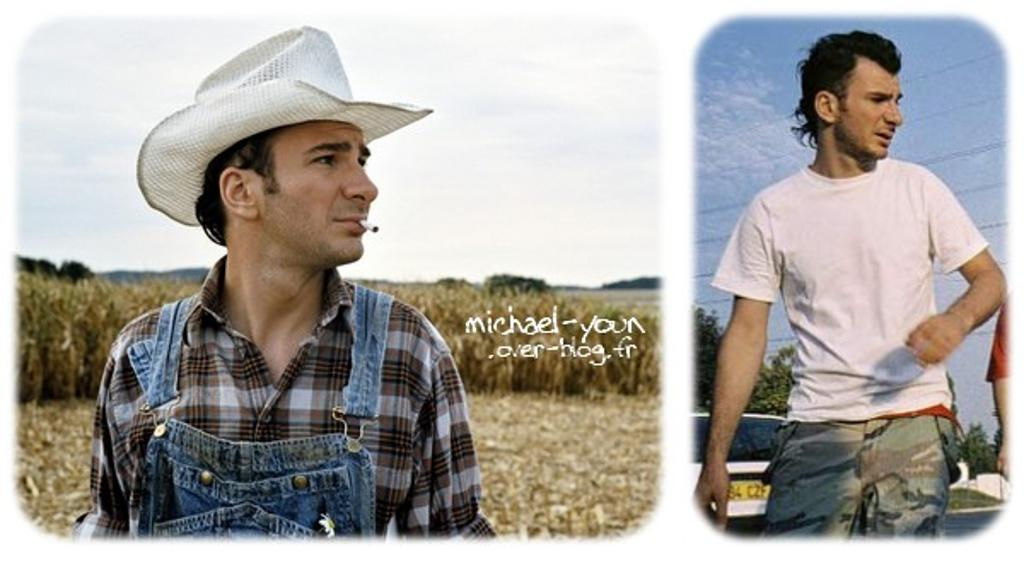face: (262, 112, 374, 258), (836, 58, 902, 162)
